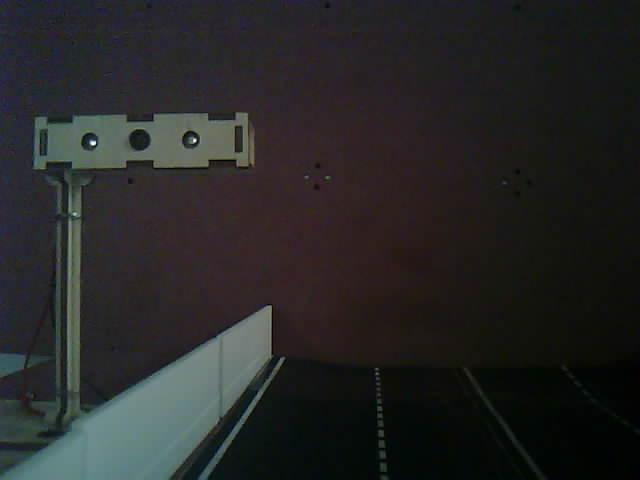no: (17, 83, 279, 455)
